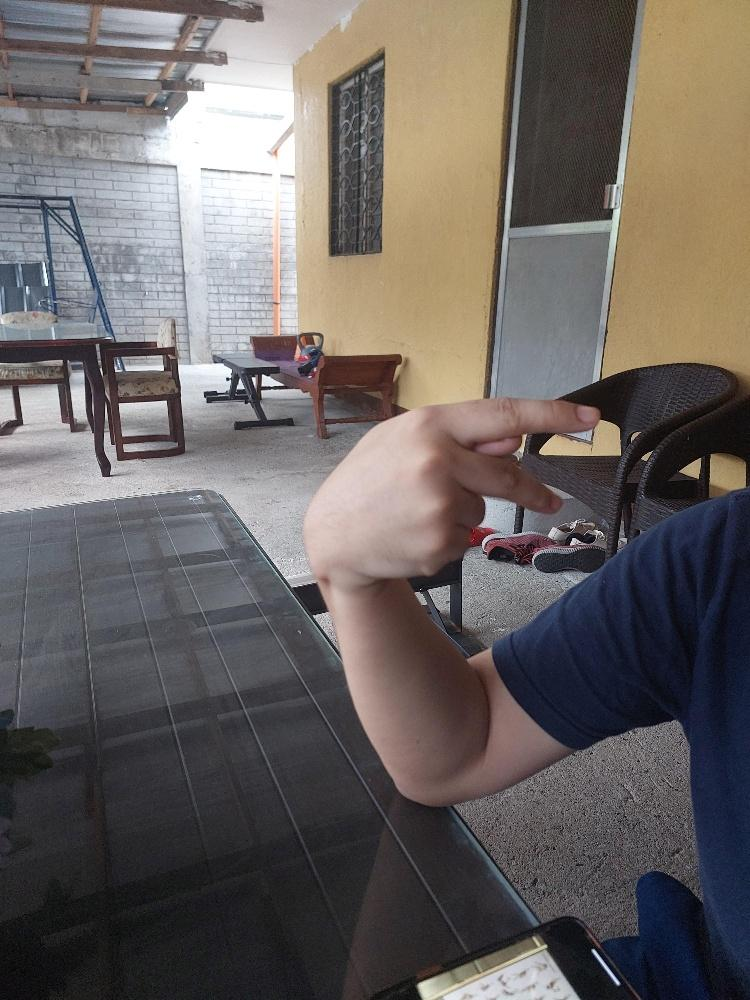k: (298, 392, 601, 582)
